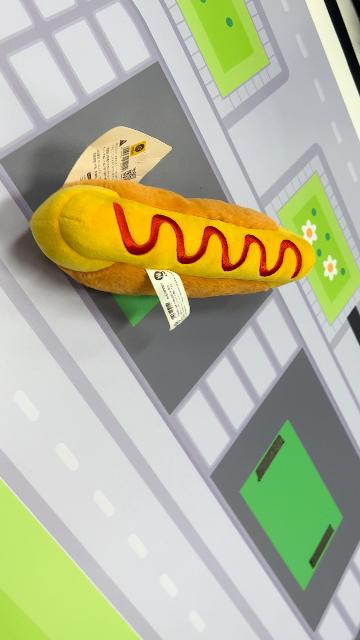hotdog: (29, 178, 317, 300)
